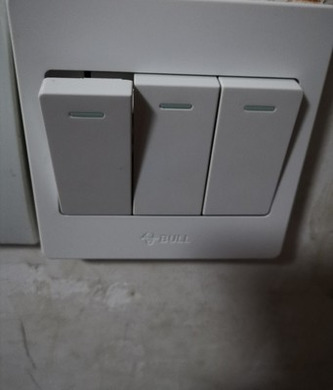switch: (33, 63, 138, 219), (129, 69, 225, 221), (201, 76, 304, 217)
